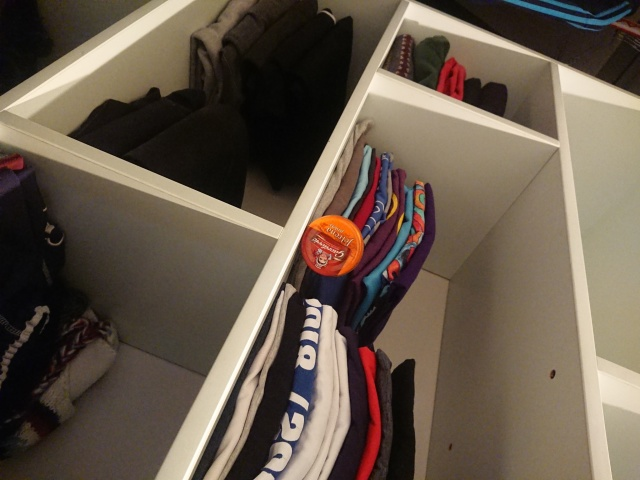Gavrilovic Pork Liver Pate 100g: (298, 211, 366, 278)
